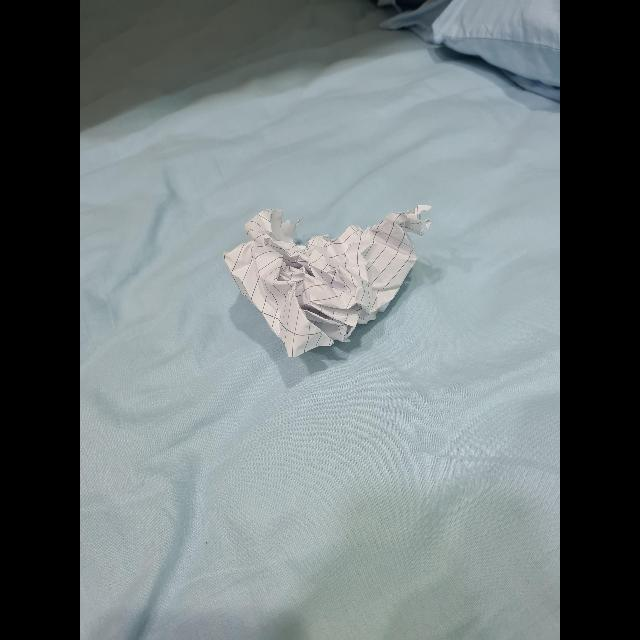scrap_paper: (232, 208, 428, 354)
